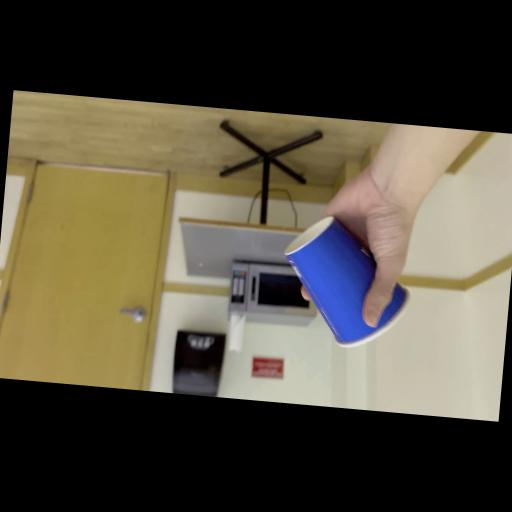lp_paper_cup: (276, 211, 416, 353)
